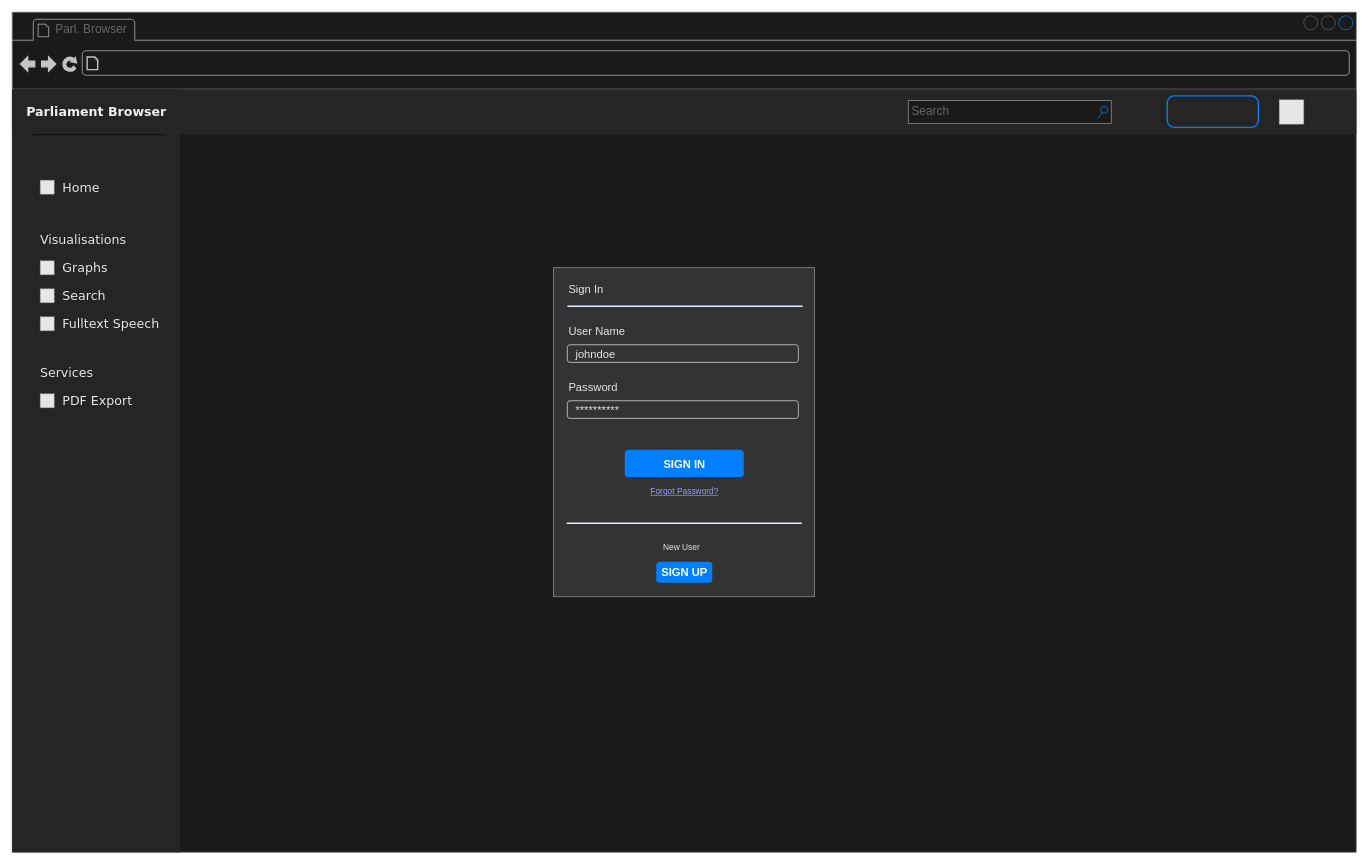
Some shapes in this 1368 by 864 pixel diagram are drawn without their labels. Grey dashed boxes stand in for pictures. Here are the shapes that lost their labels. From the top down, the box of each, then its label:
(103, 54, 278, 72): localhost:4567/login
(1166, 95, 1259, 128): Log In
